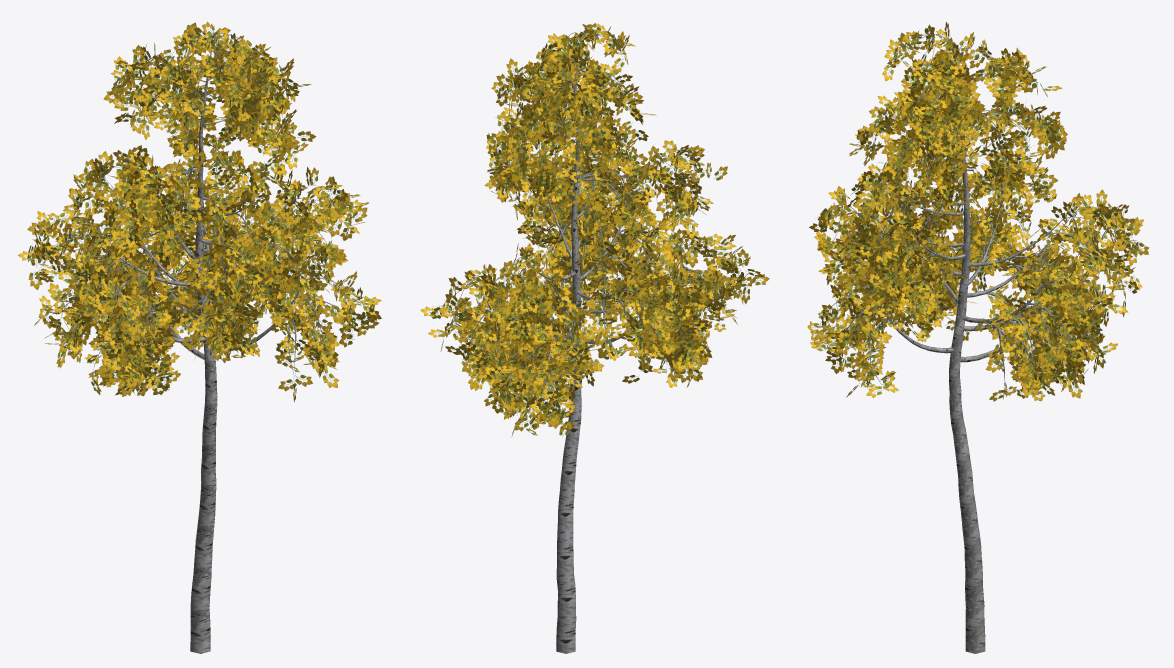
Rendered from quaking_aspen_4.glb.
3 renders of one model, left to right at view 1: azimuth 30°, elevation 25°; view 2: azimuth 150°, elevation 25°; view 3: azimuth 270°, elevation 25°, orthographic. The views are drawn at different scales.
Parts seen in each view (by area): view 1: foliage.003, structure.003; view 2: foliage.003, structure.003; view 3: foliage.003, structure.003.
Boxes of the visible parts, box(x1,y1,x2,y2) form: foliage.003: box(18, 22, 381, 402); structure.003: box(40, 26, 364, 653); foliage.003: box(420, 23, 769, 437); structure.003: box(445, 32, 743, 653); foliage.003: box(807, 22, 1148, 401); structure.003: box(821, 34, 1128, 653).
Bounding box in the file's own units: 14.24 × 30.38 × 15.65.
Materials: 2 (2 with a texture image).
